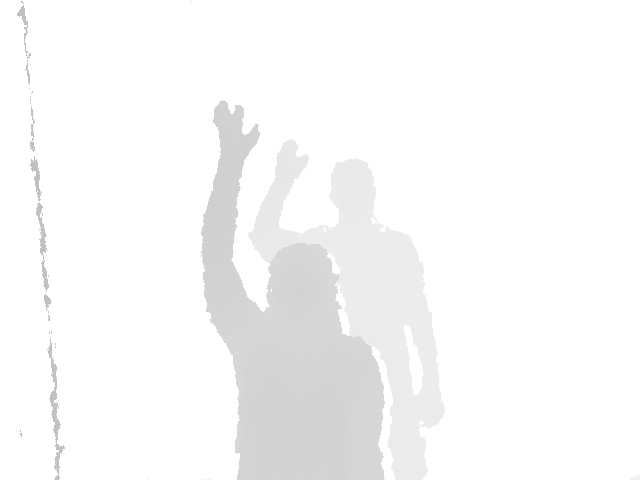hand: (212, 100, 260, 167), (274, 139, 310, 190)
head: (265, 242, 343, 337), (328, 157, 377, 223)
person: (198, 100, 388, 480), (247, 139, 446, 480)
